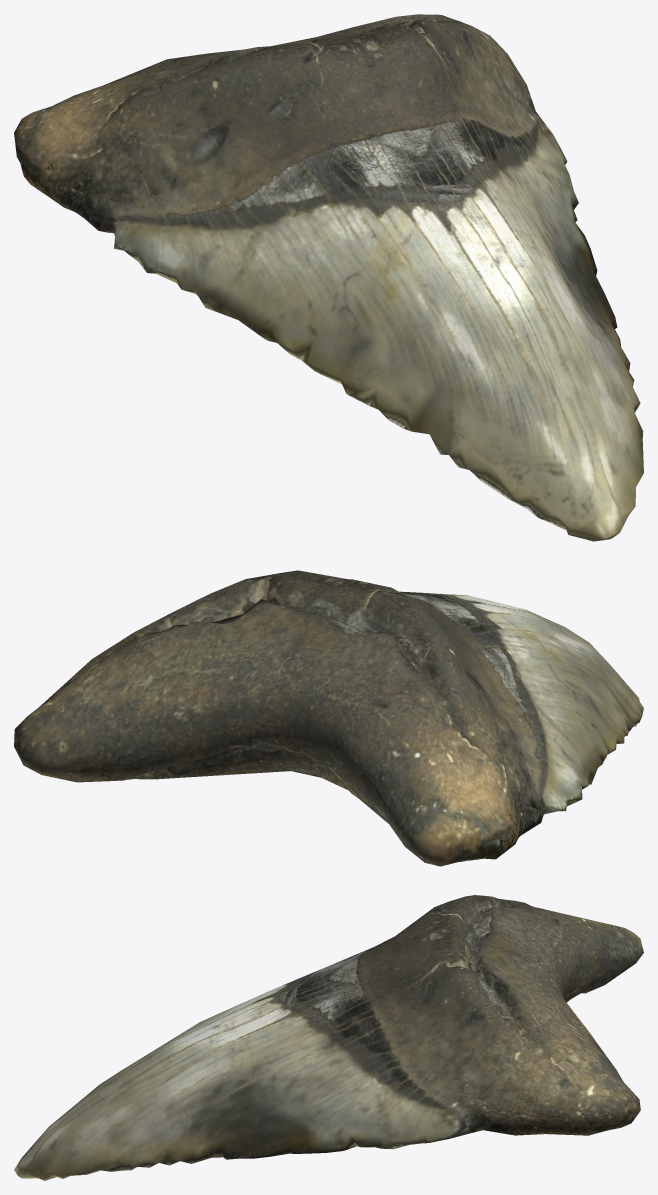
Rendered from shark_tooth.gltf.
3 renders of one model, top to bottom at view 1: azimuth 30°, elevation 25°; view 2: azimuth 150°, elevation 25°; view 3: azimuth 270°, elevation 25°, orthographic. The views are drawn at different scales.
Visible parts, largest first — view 1: fossil16.001; view 2: fossil16.001; view 3: fossil16.001.
Boxes of the visible parts, <box> form: fossil16.001: <box>14,14,643,541</box>; fossil16.001: <box>14,570,643,866</box>; fossil16.001: <box>14,895,643,1180</box>.
Bounding box in the file's own units: 0.6441 × 0.412 × 0.9307.
1 material, 1 textured.
